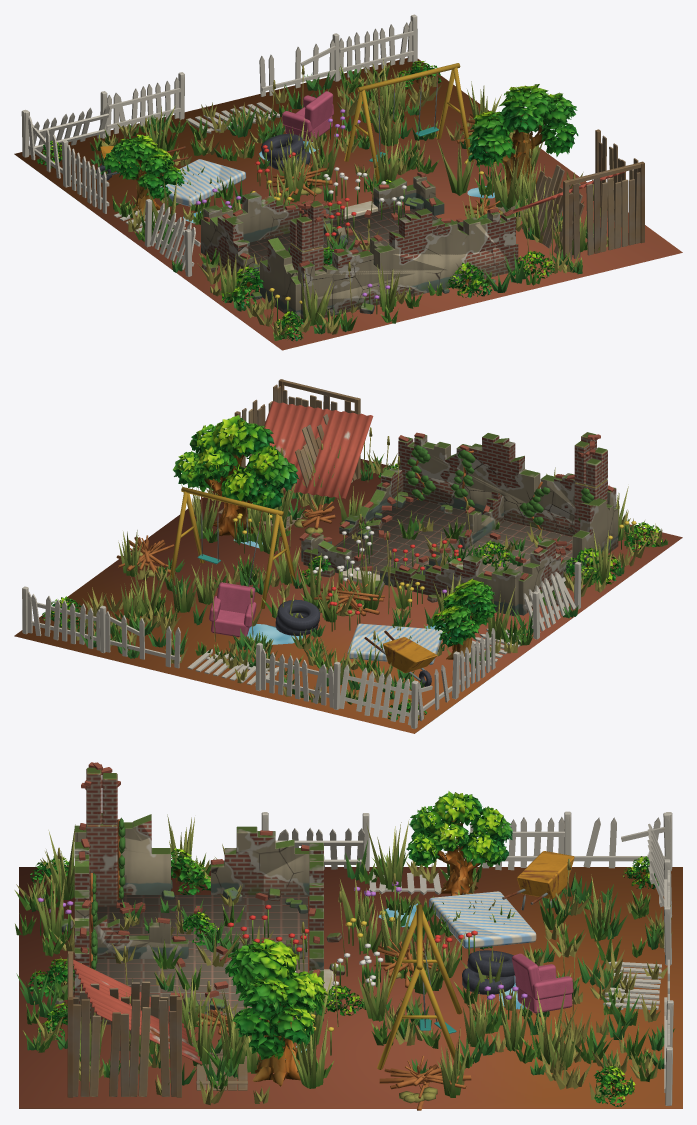
Rendered from Lot_Mato.fbx.
3 renders of one model, top to bottom at view 1: azimuth 30°, elevation 25°; view 2: azimuth 150°, elevation 25°; view 3: azimuth 270°, elevation 25°, orthographic. The views are drawn at different scales.
Visible parts, largest first — view 1: MATO_green, MATO_ruin, MATO_pad, MATO_junk; view 2: MATO_green, MATO_ruin, MATO_junk, MATO_pad; view 3: MATO_green, MATO_pad, MATO_ruin, MATO_junk.
Part boxes in pixels (x1,y1,x2,y2): MATO_green: (37,58,608,341); MATO_ruin: (201,129,644,322); MATO_pad: (14,58,682,350); MATO_junk: (21,14,515,276); MATO_green: (41,415,668,720); MATO_ruin: (218,379,618,616); MATO_junk: (22,487,581,728); MATO_pad: (14,459,682,733); MATO_green: (14,791,674,1106); MATO_pad: (19,867,682,1108); MATO_ruin: (55,762,344,1097); MATO_junk: (195,811,673,1110).
Bounding box in the file's own units: 10.12 × 2.65 × 11.69.
1 material, 1 textured.
